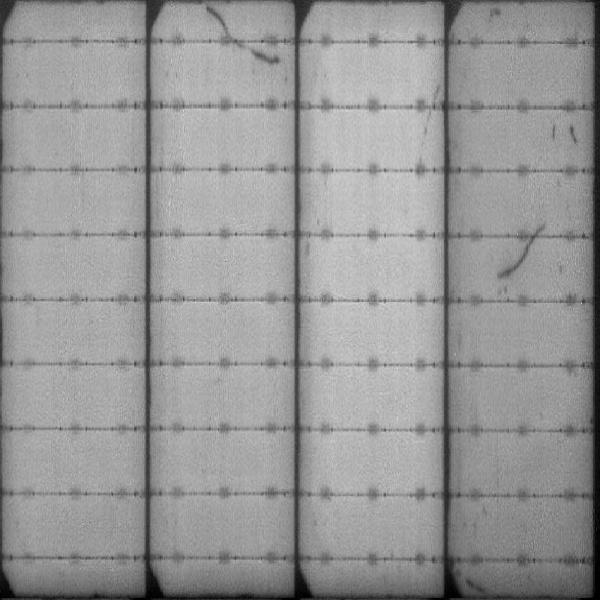scratch: (411, 80, 444, 176), (202, 4, 272, 37), (496, 240, 548, 277), (227, 44, 282, 66), (464, 577, 491, 596), (568, 125, 580, 146), (549, 122, 558, 142)
